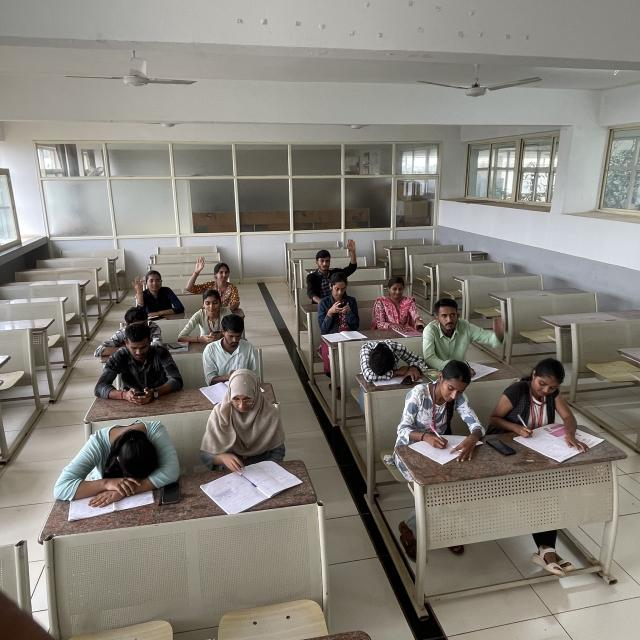Hand Rising: (422, 294, 509, 362), (308, 241, 360, 300), (187, 257, 240, 307)
Reading: (207, 373, 296, 488)
Sleeping: (56, 417, 184, 496), (361, 337, 424, 380)
Using Phone: (91, 320, 179, 403), (184, 291, 233, 345), (316, 274, 360, 332)
Writing: (494, 356, 590, 450), (398, 359, 484, 458)
